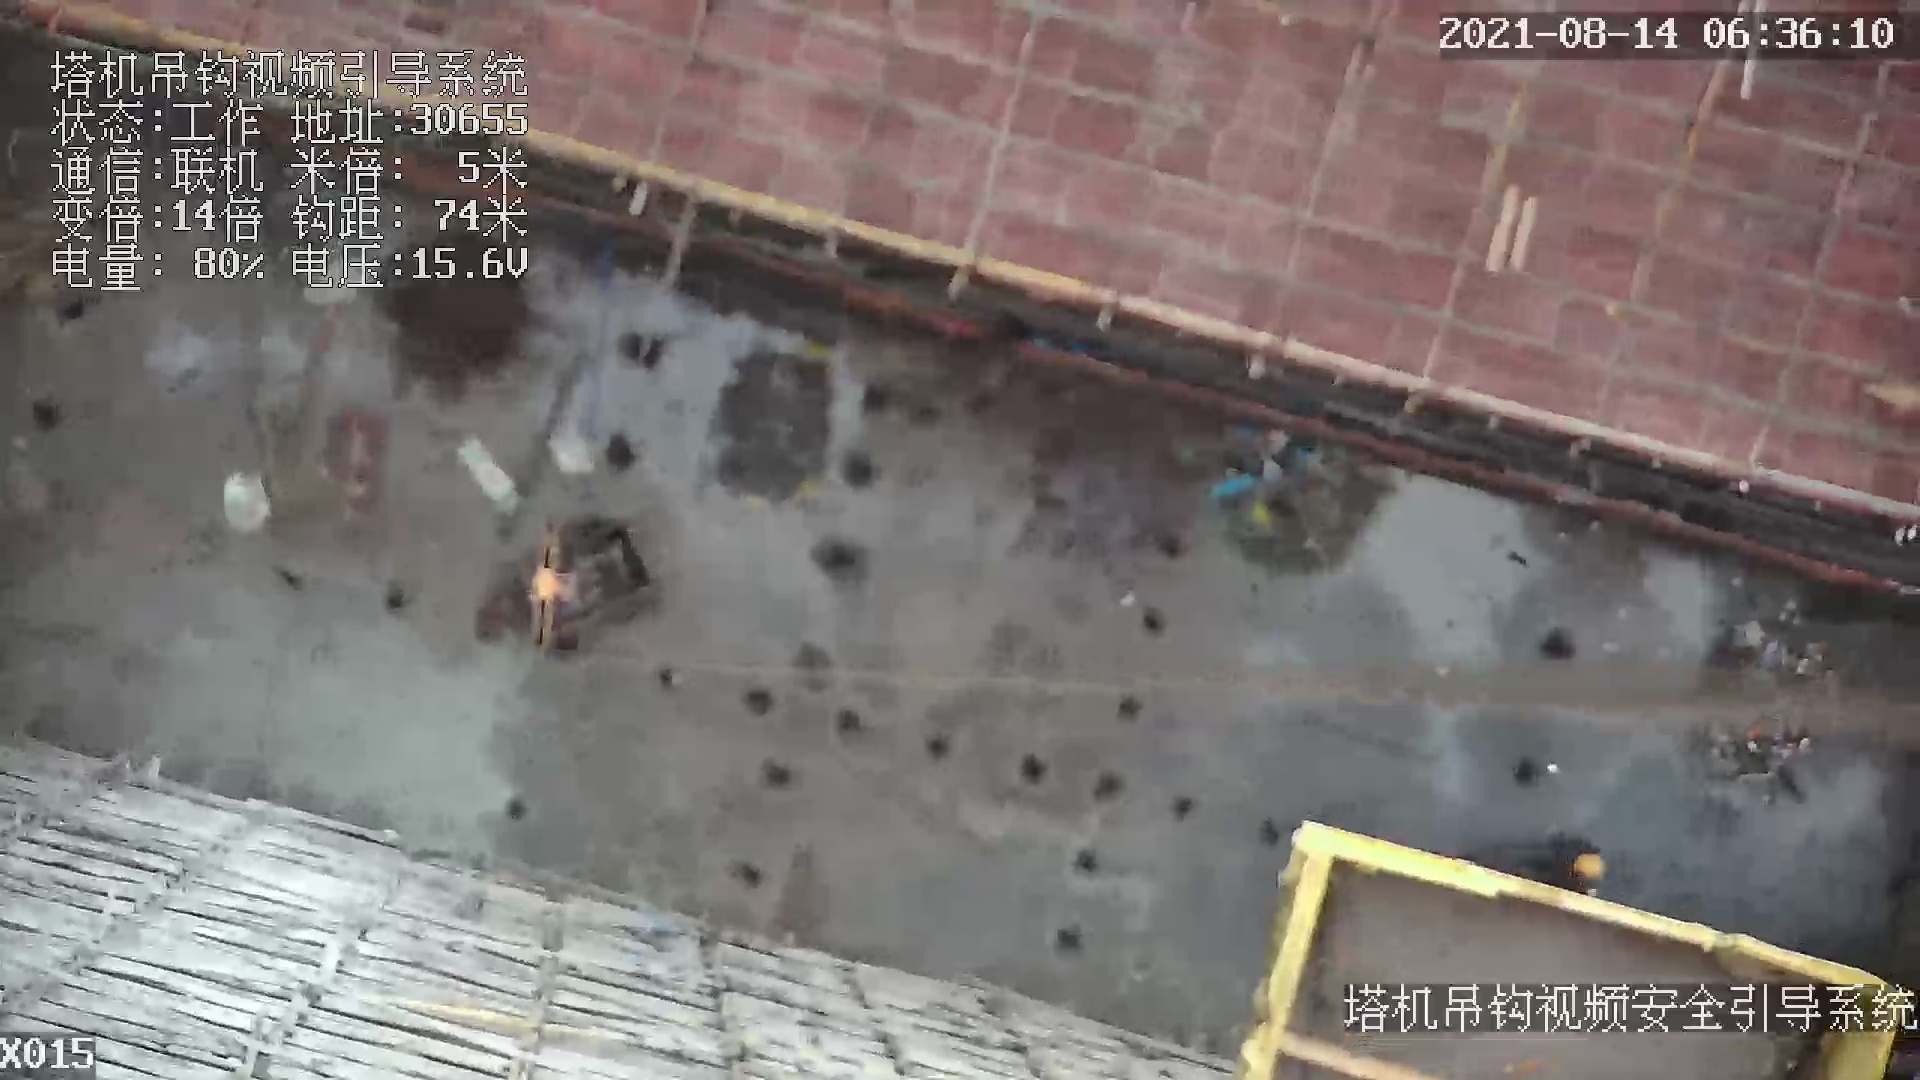hook: (531, 531, 568, 650)
person: (1528, 828, 1612, 904)
